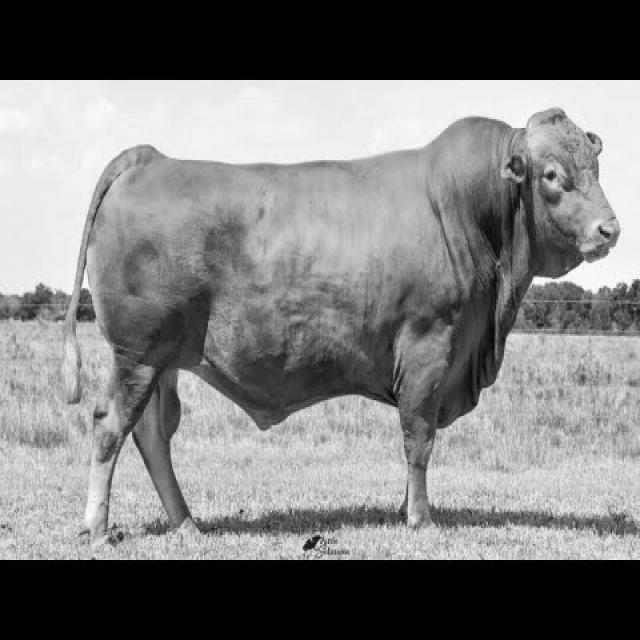cow: (64, 109, 619, 543)
